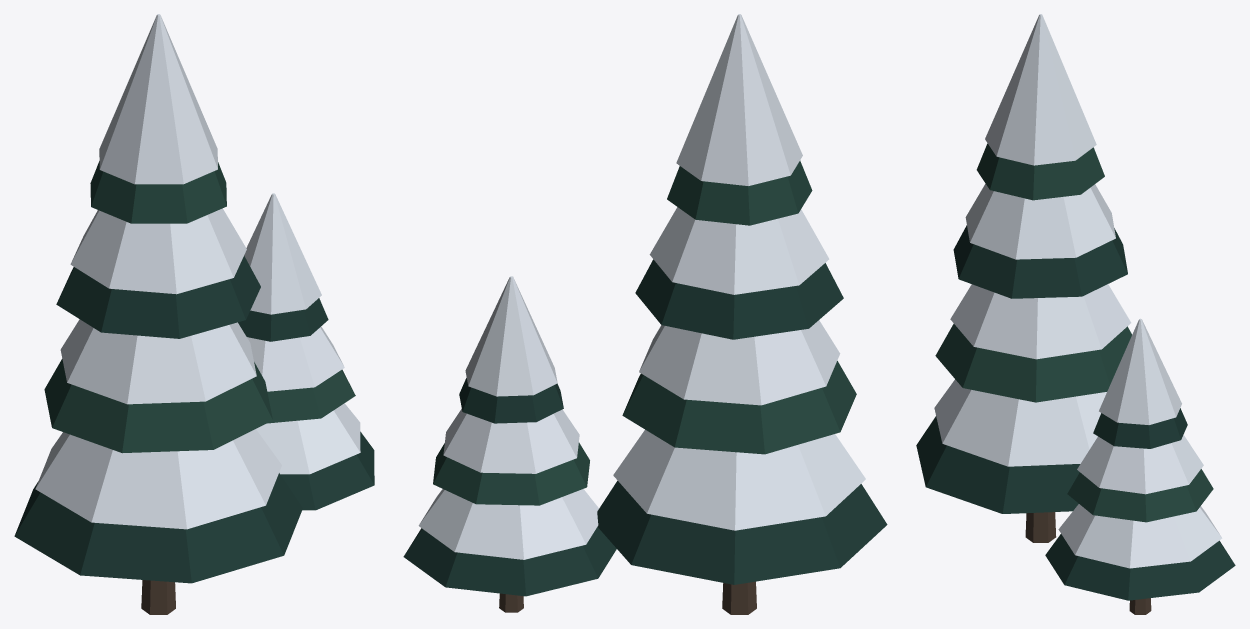
Rendered from pine_pair.glb.
The picture shows the model from 3 angles, left to right: view 1: azimuth 30°, elevation 25°; view 2: azimuth 150°, elevation 25°; view 3: azimuth 270°, elevation 25°; orthographic projection. The views are drawn at different scales.
Visible parts, largest first — view 1: pine_pair; view 2: pine_pair; view 3: pine_pair.
Boxes of the visible parts, box(x1,y1,x2,y2) form: pine_pair: box(14, 14, 374, 614); pine_pair: box(403, 14, 887, 614); pine_pair: box(916, 14, 1235, 614).
Bounding box in the file's own units: 7.91 × 11.58 × 6.41.
